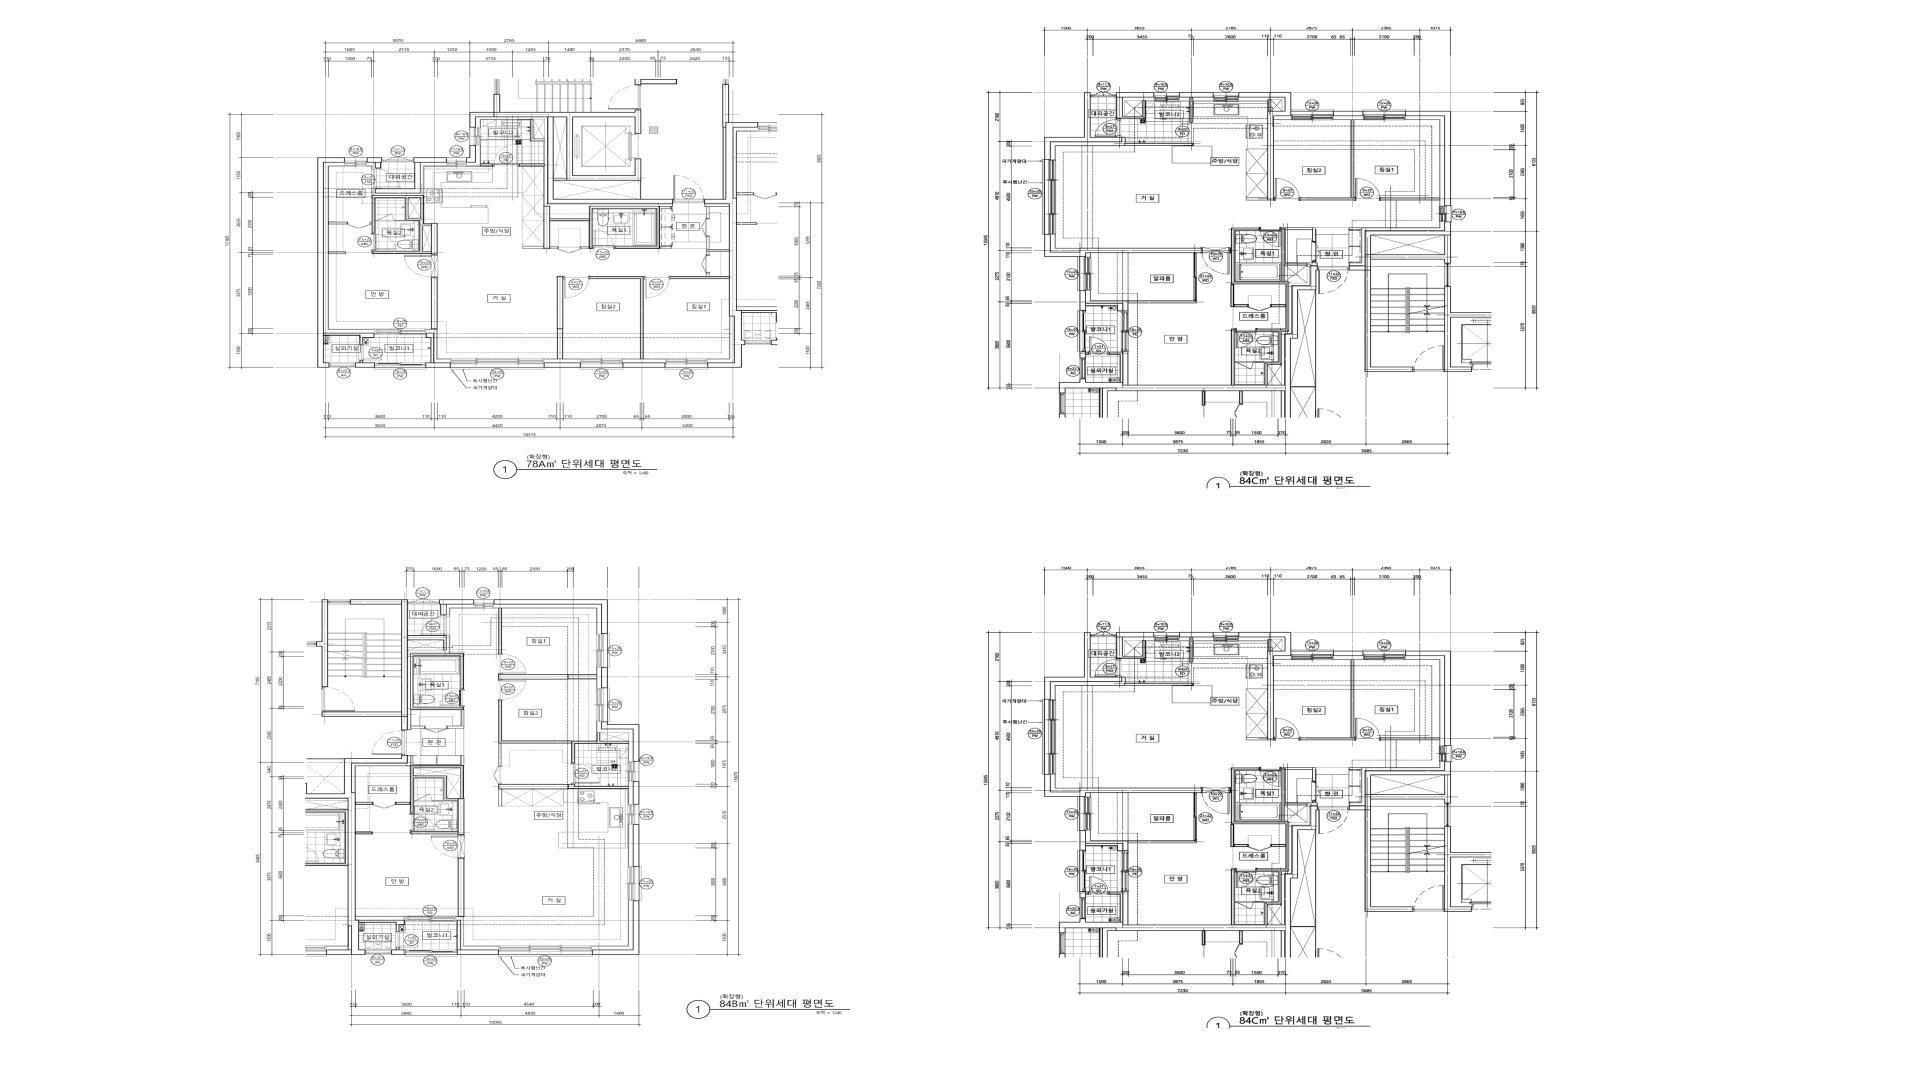door: (1317, 806, 1349, 833), (1317, 266, 1349, 294), (1201, 787, 1232, 815), (673, 175, 704, 202), (372, 731, 405, 756), (322, 687, 355, 712), (1414, 345, 1444, 372), (1414, 886, 1444, 913), (1201, 248, 1232, 274), (431, 835, 464, 858), (608, 86, 641, 109), (404, 255, 438, 277), (571, 764, 600, 785), (421, 615, 450, 636), (493, 144, 520, 166), (1354, 717, 1381, 740), (1274, 717, 1300, 740), (1354, 178, 1381, 200), (1274, 178, 1300, 200), (498, 679, 526, 700), (644, 277, 670, 298), (563, 277, 589, 298), (372, 169, 400, 189), (498, 654, 526, 674), (1095, 119, 1121, 137), (1095, 659, 1121, 676), (592, 229, 615, 249), (1259, 767, 1282, 787), (1234, 328, 1257, 348), (372, 233, 396, 252), (410, 814, 434, 832), (439, 690, 464, 707), (1234, 869, 1257, 887), (1259, 228, 1282, 247), (1088, 877, 1109, 895), (1088, 336, 1109, 355), (360, 344, 382, 360), (396, 932, 418, 948), (1193, 253, 1197, 301), (1193, 793, 1197, 840), (1312, 781, 1320, 803), (1312, 241, 1320, 262), (1091, 91, 1116, 98), (347, 222, 371, 228), (558, 247, 580, 253), (1249, 844, 1271, 851), (425, 727, 447, 733), (373, 802, 396, 808), (1249, 305, 1271, 311), (702, 255, 709, 273), (1234, 902, 1253, 910), (493, 766, 501, 785), (414, 794, 433, 802), (1234, 361, 1253, 369), (702, 219, 709, 236), (376, 214, 393, 222), (1091, 632, 1116, 637)
wall: (1059, 265, 1317, 418), (1059, 806, 1317, 957), (469, 94, 673, 204), (670, 84, 741, 368), (476, 117, 673, 219), (322, 600, 447, 731), (1349, 222, 1451, 372), (1349, 762, 1451, 913), (1232, 228, 1317, 385), (1232, 767, 1317, 924), (344, 756, 407, 955), (318, 157, 375, 368), (323, 162, 375, 332), (498, 700, 629, 764), (1238, 92, 1291, 200), (1238, 632, 1291, 740), (1044, 632, 1125, 699), (1044, 92, 1125, 160), (543, 206, 659, 249), (396, 766, 464, 835), (589, 277, 644, 359), (1300, 120, 1354, 200), (1300, 659, 1354, 740), (1406, 651, 1451, 746), (1406, 111, 1451, 206), (1444, 825, 1491, 913), (1444, 286, 1491, 372), (407, 636, 450, 731), (493, 600, 608, 634), (372, 195, 438, 255), (1044, 235, 1201, 257), (1044, 774, 1201, 796), (493, 604, 601, 634), (410, 654, 464, 709), (375, 157, 447, 194), (592, 901, 640, 955), (372, 162, 447, 195), (1291, 290, 1316, 388), (1291, 829, 1316, 927), (352, 756, 411, 793), (592, 901, 633, 949), (601, 721, 640, 762), (596, 721, 633, 762), (456, 920, 498, 955), (1371, 235, 1444, 255), (1371, 775, 1444, 795), (456, 916, 498, 949), (708, 316, 735, 363), (316, 600, 328, 687), (1116, 92, 1154, 119), (1116, 632, 1154, 658), (1080, 291, 1129, 311), (1080, 831, 1129, 851), (426, 334, 451, 368), (426, 330, 451, 363), (498, 785, 628, 790), (1122, 637, 1154, 657), (1122, 98, 1154, 116), (556, 277, 563, 359), (498, 674, 596, 679), (439, 600, 473, 615), (1109, 891, 1124, 922), (1109, 352, 1124, 382), (707, 236, 729, 255), (1232, 824, 1249, 848), (458, 858, 464, 918), (1232, 285, 1249, 307), (704, 204, 729, 219), (431, 277, 438, 330), (447, 709, 464, 729), (1179, 92, 1213, 102), (1179, 632, 1213, 641), (530, 120, 545, 141), (1333, 111, 1364, 120), (467, 145, 480, 166), (447, 604, 473, 615), (633, 824, 640, 866), (634, 79, 676, 86), (1129, 840, 1196, 844), (1333, 651, 1364, 659), (409, 198, 421, 218), (1269, 637, 1284, 651), (628, 824, 633, 866), (622, 363, 665, 368), (1269, 98, 1284, 111), (543, 363, 580, 368), (356, 916, 405, 920), (367, 157, 382, 169), (498, 608, 502, 654), (1125, 683, 1193, 686), (1129, 301, 1196, 303), (622, 359, 665, 363), (467, 145, 476, 162), (1381, 198, 1440, 200), (1381, 737, 1440, 740), (355, 360, 375, 368), (1232, 328, 1234, 385), (633, 782, 640, 804), (1232, 869, 1234, 924), (543, 359, 580, 363), (601, 667, 608, 688), (628, 782, 633, 804), (596, 667, 601, 688), (1189, 98, 1193, 123), (1189, 637, 1193, 662), (1125, 144, 1193, 145), (392, 948, 405, 955), (520, 164, 545, 166), (498, 744, 501, 766), (1246, 198, 1267, 200), (1246, 737, 1267, 740), (522, 247, 543, 249), (367, 162, 375, 169), (498, 790, 501, 807), (1080, 352, 1087, 359), (1080, 891, 1087, 898), (554, 178, 567, 181), (480, 164, 493, 166), (659, 247, 671, 249), (1349, 767, 1361, 770), (462, 756, 464, 766), (640, 181, 641, 199), (580, 247, 589, 249), (550, 247, 558, 249), (1349, 228, 1361, 229), (1253, 902, 1265, 903), (1253, 361, 1265, 363), (393, 220, 405, 222), (433, 800, 443, 802), (707, 273, 709, 277), (371, 222, 372, 224), (1087, 891, 1088, 894), (1087, 352, 1088, 355)
window: (1042, 160, 1056, 235), (1042, 699, 1056, 774), (450, 359, 545, 369), (498, 945, 592, 956), (1291, 109, 1335, 120), (1291, 649, 1335, 659), (665, 359, 708, 369), (1077, 796, 1091, 831), (628, 866, 641, 901), (1077, 257, 1091, 291), (1364, 109, 1406, 120), (1364, 649, 1406, 659), (580, 359, 622, 369), (596, 634, 609, 667), (596, 688, 609, 721), (375, 330, 426, 338), (1077, 310, 1087, 352), (1077, 851, 1087, 891), (375, 363, 426, 369), (1121, 851, 1129, 891), (1121, 311, 1129, 352), (405, 951, 456, 956), (405, 916, 456, 922), (628, 762, 640, 782), (628, 804, 640, 824), (1213, 92, 1238, 102), (1154, 92, 1179, 102), (1213, 632, 1238, 641), (1154, 632, 1179, 641), (344, 157, 367, 166), (1440, 206, 1452, 222), (1440, 746, 1452, 762), (447, 157, 467, 166), (469, 128, 480, 145), (381, 157, 413, 162), (407, 599, 439, 604), (1444, 262, 1451, 286), (473, 600, 493, 608), (1444, 803, 1451, 827), (1080, 898, 1087, 919), (330, 363, 355, 368), (1080, 359, 1087, 378), (365, 951, 392, 955), (328, 600, 349, 604)
